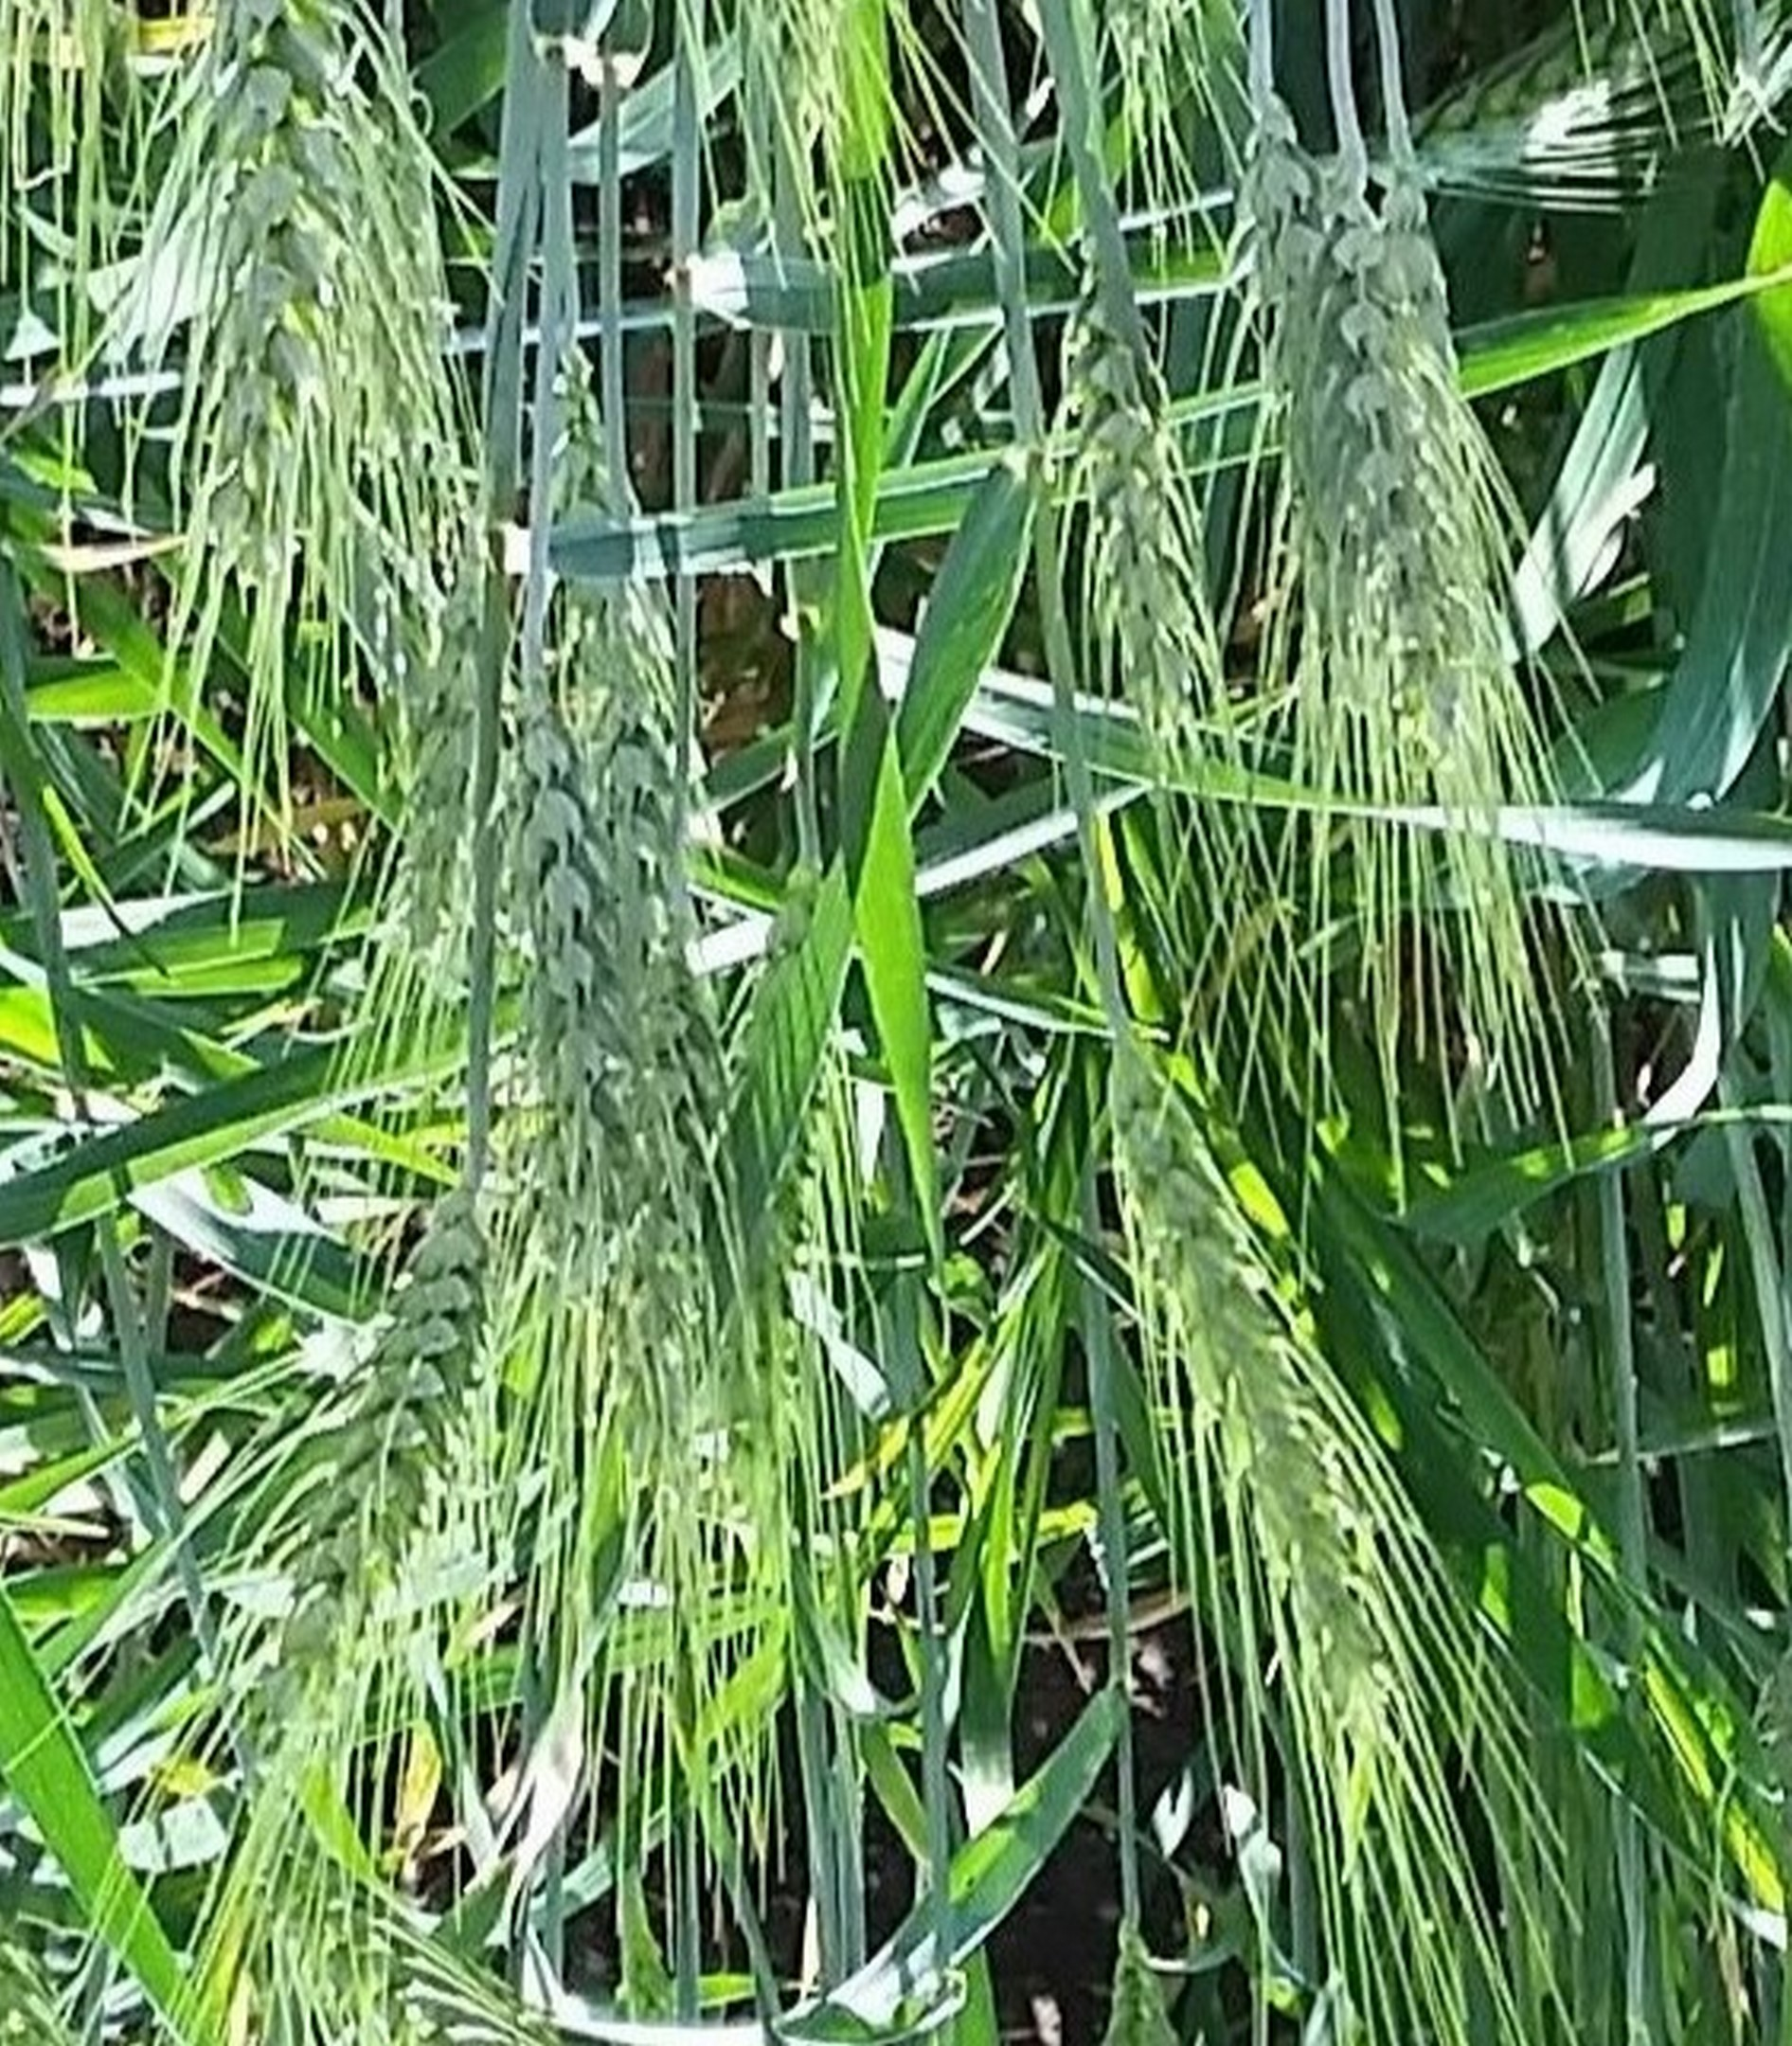Healthy Wheat: (268, 1195, 501, 1712)
